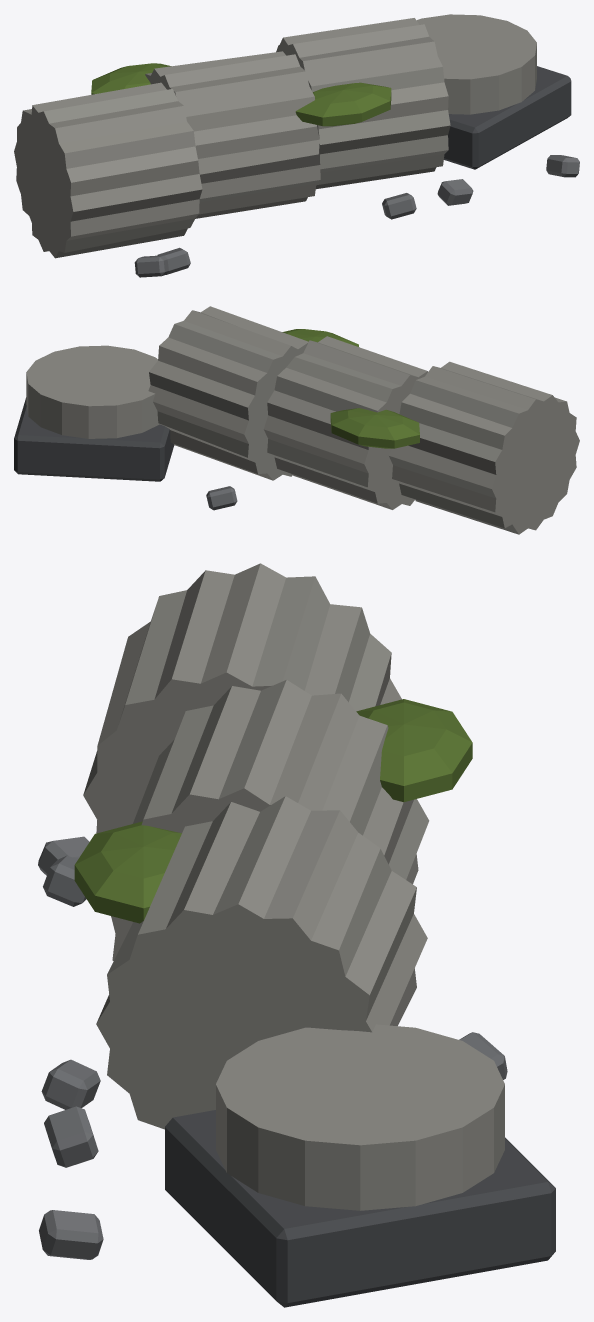
The model's file is column_fallen.glb.
3 views of the same model, one above another, from view 1: azimuth 30°, elevation 25°; view 2: azimuth 150°, elevation 25°; view 3: azimuth 270°, elevation 25° (orthographic). The views are drawn at different scales.
Visible parts, largest first — view 1: ColumnFallen; view 2: ColumnFallen; view 3: ColumnFallen.
Part boxes in pixels (bbox=[...]): ColumnFallen: bbox=[14, 14, 579, 277]; ColumnFallen: bbox=[14, 306, 579, 534]; ColumnFallen: bbox=[38, 563, 555, 1307].
Bounding box in the file's own units: 1.62 × 0.4102 × 0.7166.
